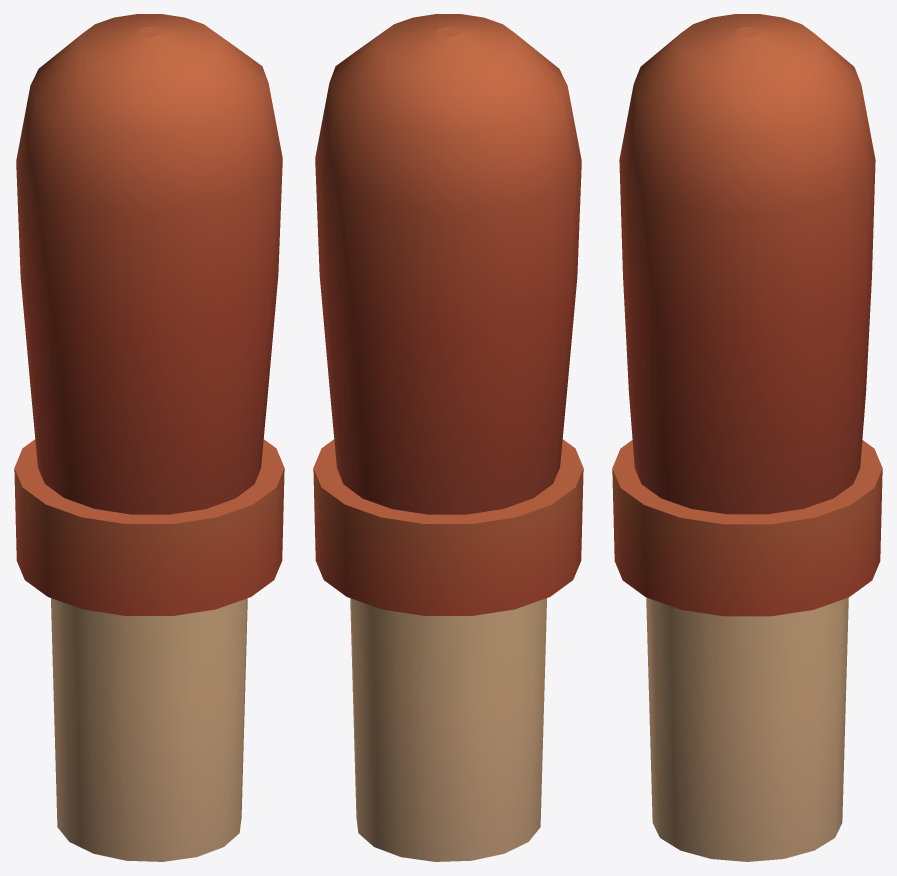
File: merchant_aron_upper_l.glb
3 views of the same model, side by side, from view 1: azimuth 30°, elevation 25°; view 2: azimuth 150°, elevation 25°; view 3: azimuth 270°, elevation 25° (orthographic).
Parts seen in each view (by area): view 1: merchant_aron_upper_l; view 2: merchant_aron_upper_l; view 3: merchant_aron_upper_l.
Part boxes in pixels (box(x1,y1,x2,y2)): merchant_aron_upper_l: box(14, 14, 284, 861); merchant_aron_upper_l: box(313, 14, 583, 861); merchant_aron_upper_l: box(612, 14, 882, 861).
Bounding box in the file's own units: 0.4274 × 1.4 × 0.434.
Materials: 1 (1 with a texture image).
